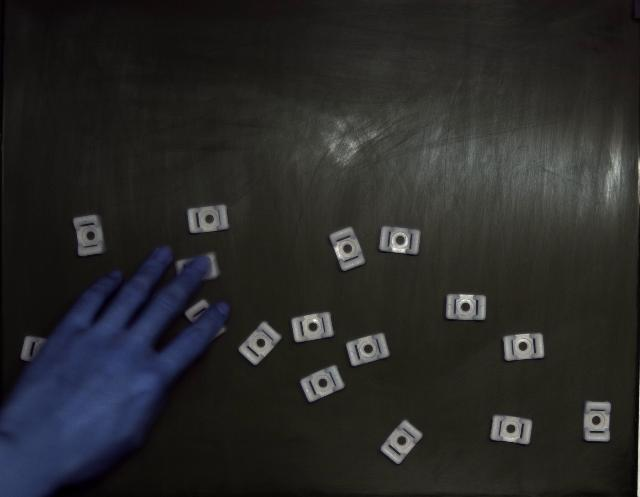first_side: (380, 420, 422, 465), (239, 322, 281, 365), (300, 366, 345, 402), (330, 228, 365, 271), (346, 334, 390, 366), (72, 215, 105, 256), (291, 312, 334, 342), (490, 415, 532, 445), (379, 226, 421, 255), (188, 205, 229, 234), (502, 334, 545, 361), (584, 401, 611, 442), (445, 295, 486, 321)
